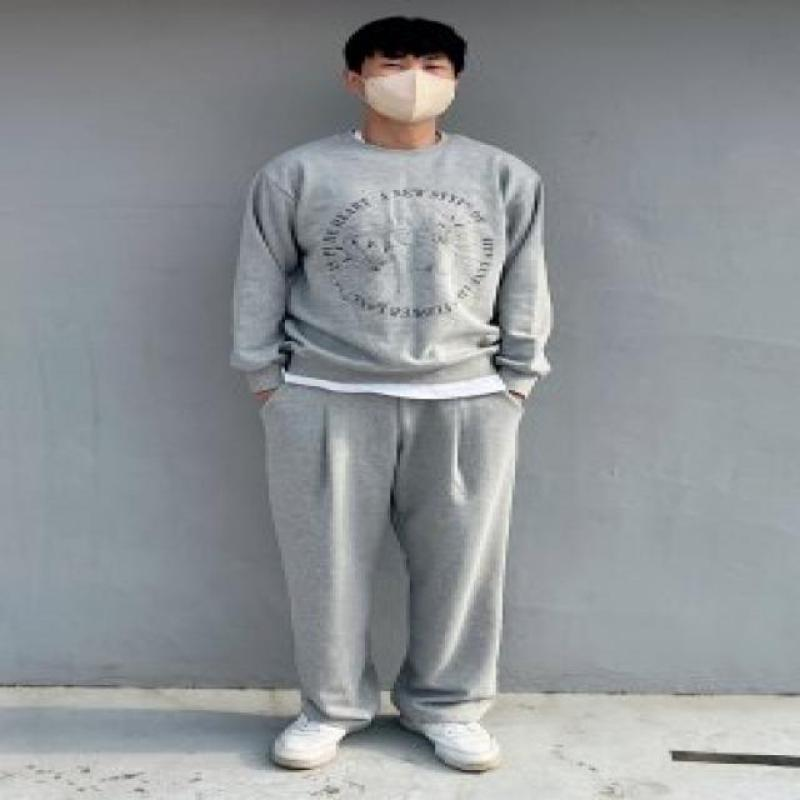sweater: (230, 126, 557, 400)
trousers: (260, 377, 527, 737)
